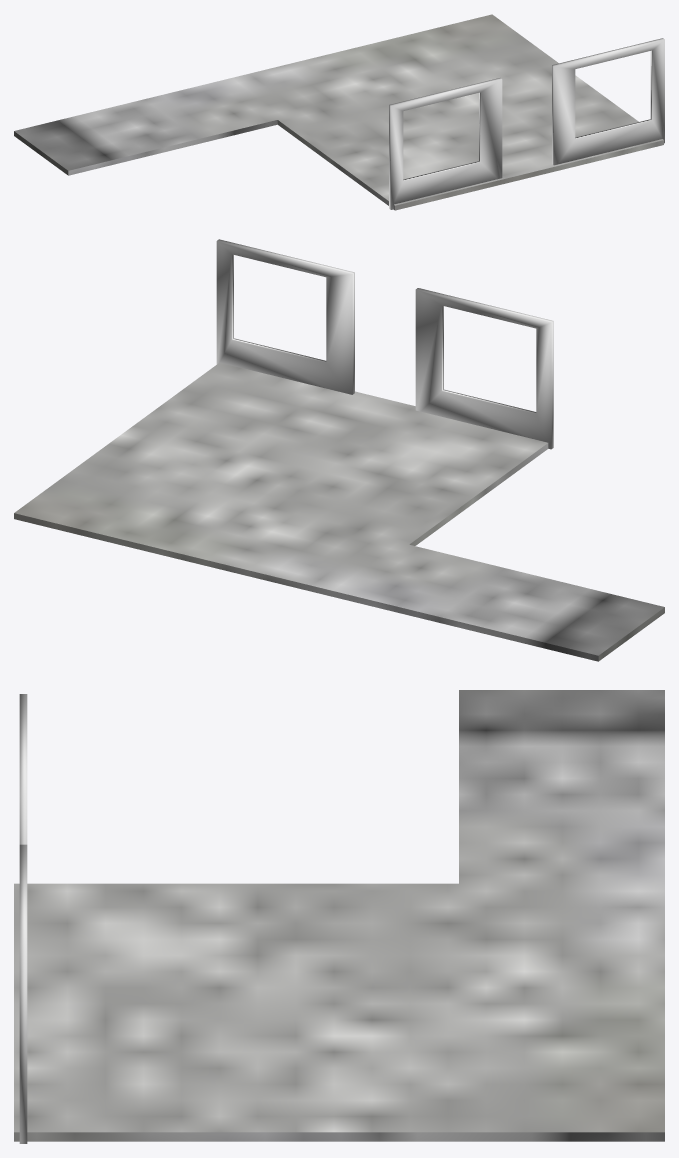
The model's file is Resto.fbx.
3 renders of one model, top to bottom at view 1: azimuth 30°, elevation 25°; view 2: azimuth 150°, elevation 25°; view 3: azimuth 270°, elevation 25°, orthographic. The views are drawn at different scales.
Visible parts, largest first — view 1: Piso, Paredes.001, Paredes.002; view 2: Piso, Paredes.001, Paredes.002; view 3: Piso, Paredes.002, Paredes.001.
Part boxes in pixels (left/top/right/bottom): Piso: left=14, top=14, right=663, bottom=210; Paredes.001: left=389, top=78, right=502, bottom=209; Paredes.002: left=552, top=38, right=664, bottom=165; Piso: left=14, top=362, right=664, bottom=661; Paredes.001: left=415, top=288, right=553, bottom=449; Paredes.002: left=216, top=239, right=354, bottom=394; Piso: left=14, top=690, right=664, bottom=1141; Paredes.002: left=19, top=844, right=27, bottom=1143; Paredes.001: left=19, top=694, right=27, bottom=844.
Bounding box in the file's own units: 987 × 204 × 611.
